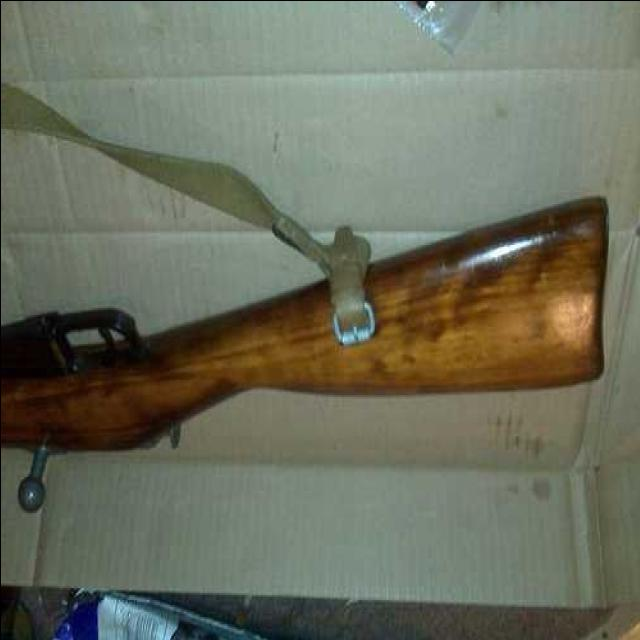heavyweapon: (1, 180, 619, 482)
